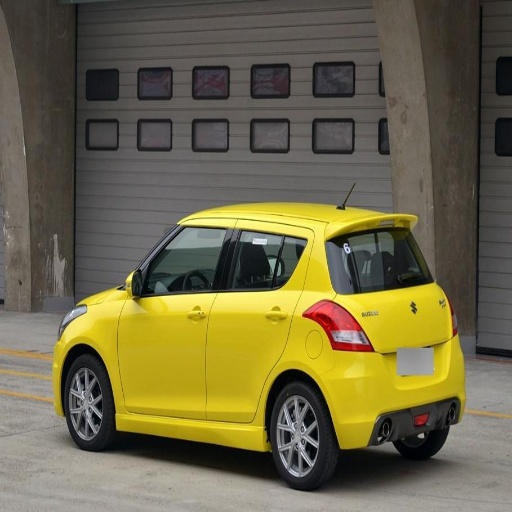back_bumper: (321, 338, 465, 446)
back_glass: (329, 229, 429, 291)
back_left_door: (208, 219, 298, 422)
tailgate: (355, 283, 447, 358)
trunk: (61, 18, 390, 177)
